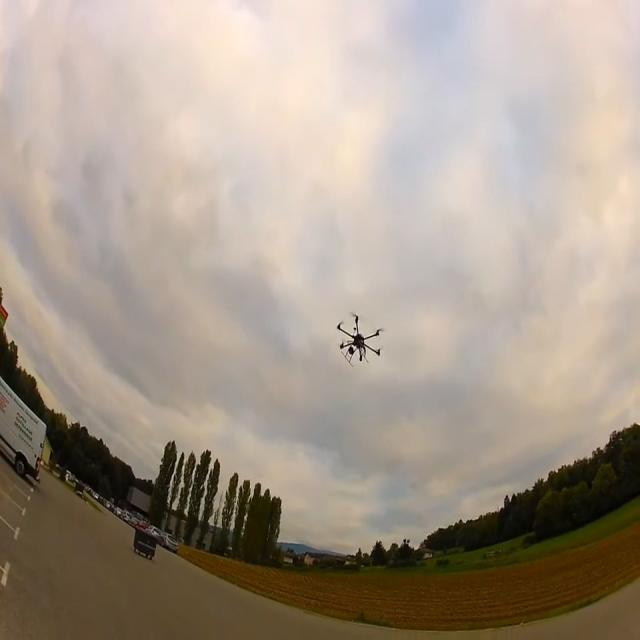drone: (336, 312, 383, 367)
